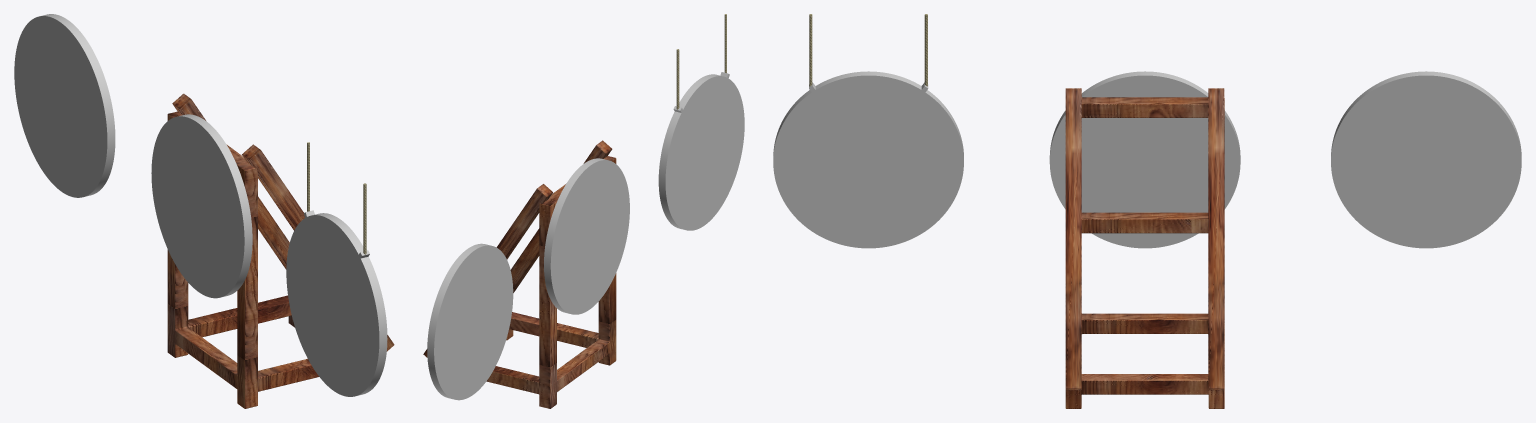
File: misheni.fbx
3 views of the same model, side by side, from view 1: azimuth 30°, elevation 25°; view 2: azimuth 150°, elevation 25°; view 3: azimuth 270°, elevation 25° (orthographic). The views are drawn at different scales.
Visible parts, largest first — view 1: Cylinder002, Cylinder001, Cylinder005, Box001, Box002, Cylinder004; view 2: Cylinder002, Cylinder005, Cylinder001, Box001, Box002, Cylinder004; view 3: Cylinder002, Cylinder005, Cylinder001, Box001, Box002.
Part boxes in pixels (bbox=[...]): Cylinder002: bbox=[286, 210, 387, 396]; Cylinder001: bbox=[151, 114, 252, 298]; Cylinder005: bbox=[14, 14, 115, 197]; Box001: bbox=[167, 111, 318, 408]; Box002: bbox=[172, 93, 394, 351]; Cylinder004: bbox=[307, 142, 366, 254]; Cylinder002: bbox=[658, 72, 744, 230]; Cylinder005: bbox=[427, 243, 513, 400]; Cylinder001: bbox=[544, 158, 629, 314]; Box001: bbox=[486, 156, 616, 408]; Box002: bbox=[423, 140, 612, 357]; Cylinder004: bbox=[676, 14, 726, 109]; Cylinder002: bbox=[773, 71, 963, 248]; Cylinder005: bbox=[1331, 71, 1521, 248]; Cylinder001: bbox=[1049, 71, 1240, 248]; Box001: bbox=[1065, 97, 1224, 408]; Box002: bbox=[1065, 88, 1224, 390].
Bounding box in the file's own units: 58.75 × 113 × 235.
